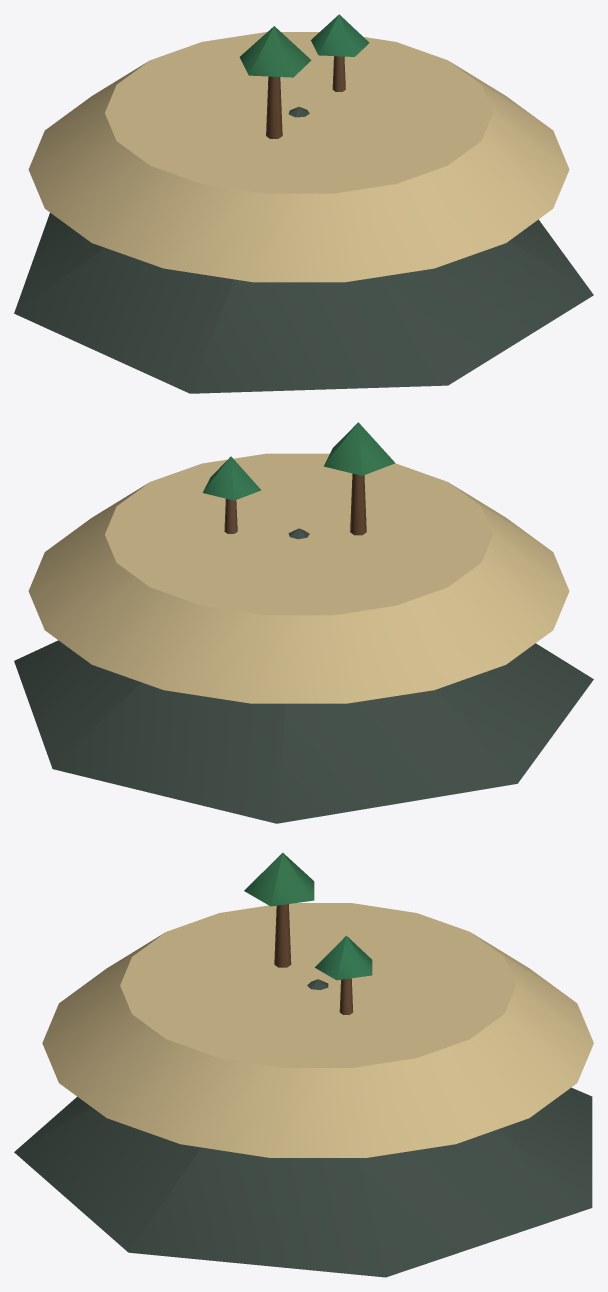
File: horizon-island.glb
3 views of the same model, one above another, from view 1: azimuth 30°, elevation 25°; view 2: azimuth 150°, elevation 25°; view 3: azimuth 270°, elevation 25° (orthographic).
Visible parts, largest first — view 1: IslandSand, IslandRock, PalmLeavesA, PalmLeavesB, PalmTrunkA; view 2: IslandSand, IslandRock, PalmLeavesA, PalmLeavesB, PalmTrunkA; view 3: IslandSand, IslandRock, PalmLeavesA, PalmLeavesB, PalmTrunkA.
Boxes of the visible parts, x1,y1,x2,y2 form: IslandSand: [28, 32, 569, 282]; IslandRock: [14, 107, 593, 393]; PalmLeavesA: [239, 26, 311, 77]; PalmLeavesB: [311, 14, 369, 56]; PalmTrunkA: [266, 76, 282, 138]; IslandSand: [28, 453, 569, 703]; IslandRock: [14, 528, 593, 823]; PalmLeavesA: [323, 422, 395, 475]; PalmLeavesB: [202, 456, 261, 500]; PalmTrunkA: [350, 473, 366, 535]; IslandSand: [42, 903, 593, 1157]; IslandRock: [14, 979, 592, 1277]; PalmLeavesA: [244, 852, 314, 906]; PalmLeavesB: [315, 935, 372, 980]; PalmTrunkA: [274, 904, 291, 967].
Bounding box in the file's own units: 168 × 87 × 164.
